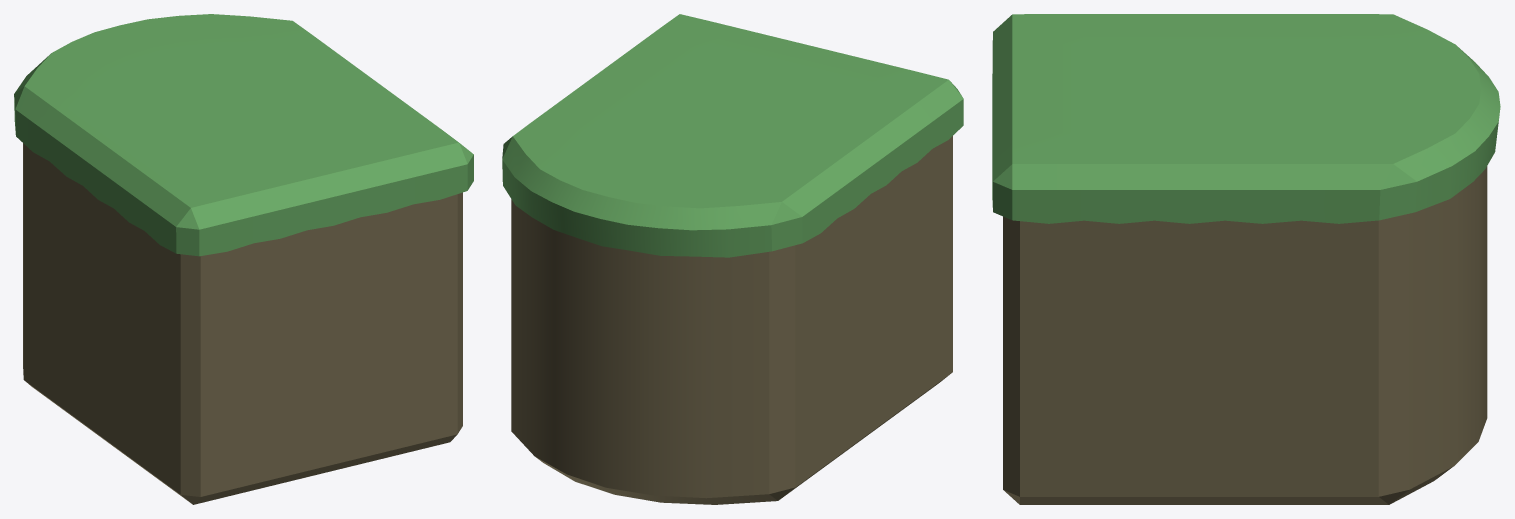
File: Grass_block_edge.fbx
3 views of the same model, side by side, from view 1: azimuth 30°, elevation 25°; view 2: azimuth 150°, elevation 25°; view 3: azimuth 270°, elevation 25° (orthographic). The views are drawn at different scales.
Parts seen in each view (by area): view 1: Dirt, Grass; view 2: Dirt, Grass; view 3: Dirt, Grass.
Part boxes in pixels (box(x1,y1,x2,y2)): Dirt: box(23, 143, 462, 504); Grass: box(14, 14, 473, 256); Dirt: box(511, 136, 952, 504); Grass: box(502, 14, 963, 257); Dirt: box(1003, 166, 1487, 504); Grass: box(992, 14, 1500, 223).
Bounding box in the file's own units: 118 × 113 × 152.
